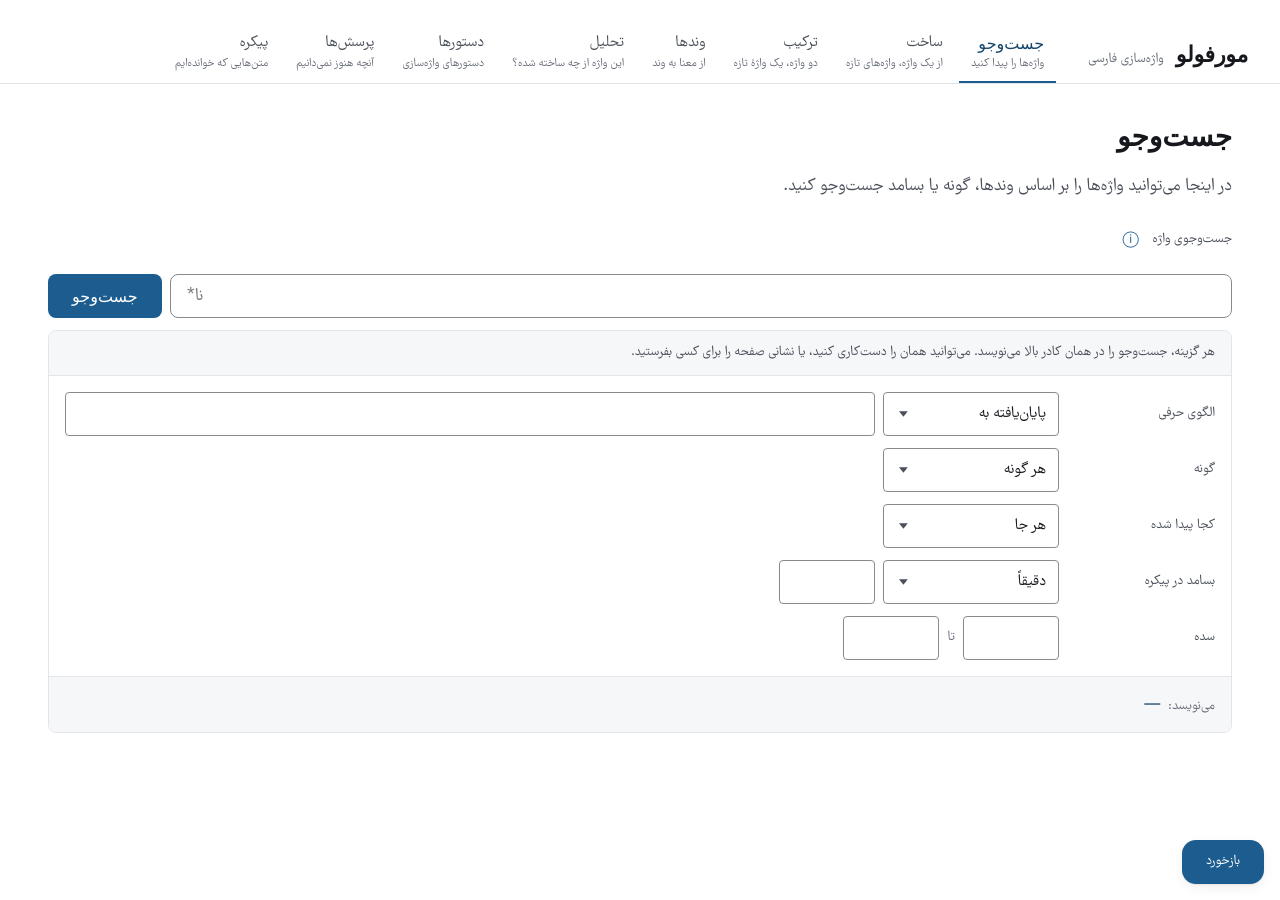
the builder › writes a pattern in the shape that was chosen
Click the dropdown labelled "گونه" at (971, 470), box [883,448,1059,492]
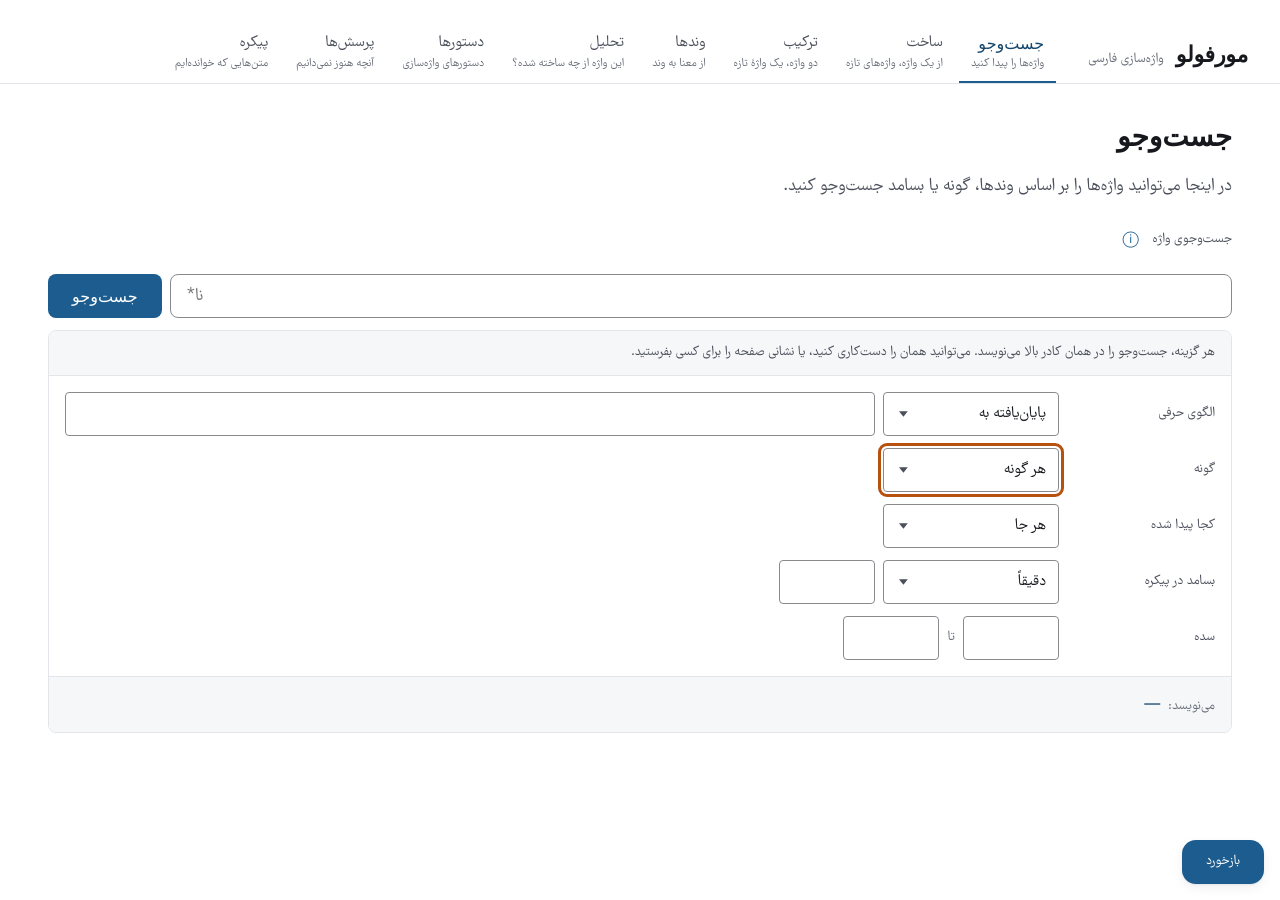
Type "nā" into the field labelled "الگوی حرفی" at (470, 414), box [65,392,875,436]
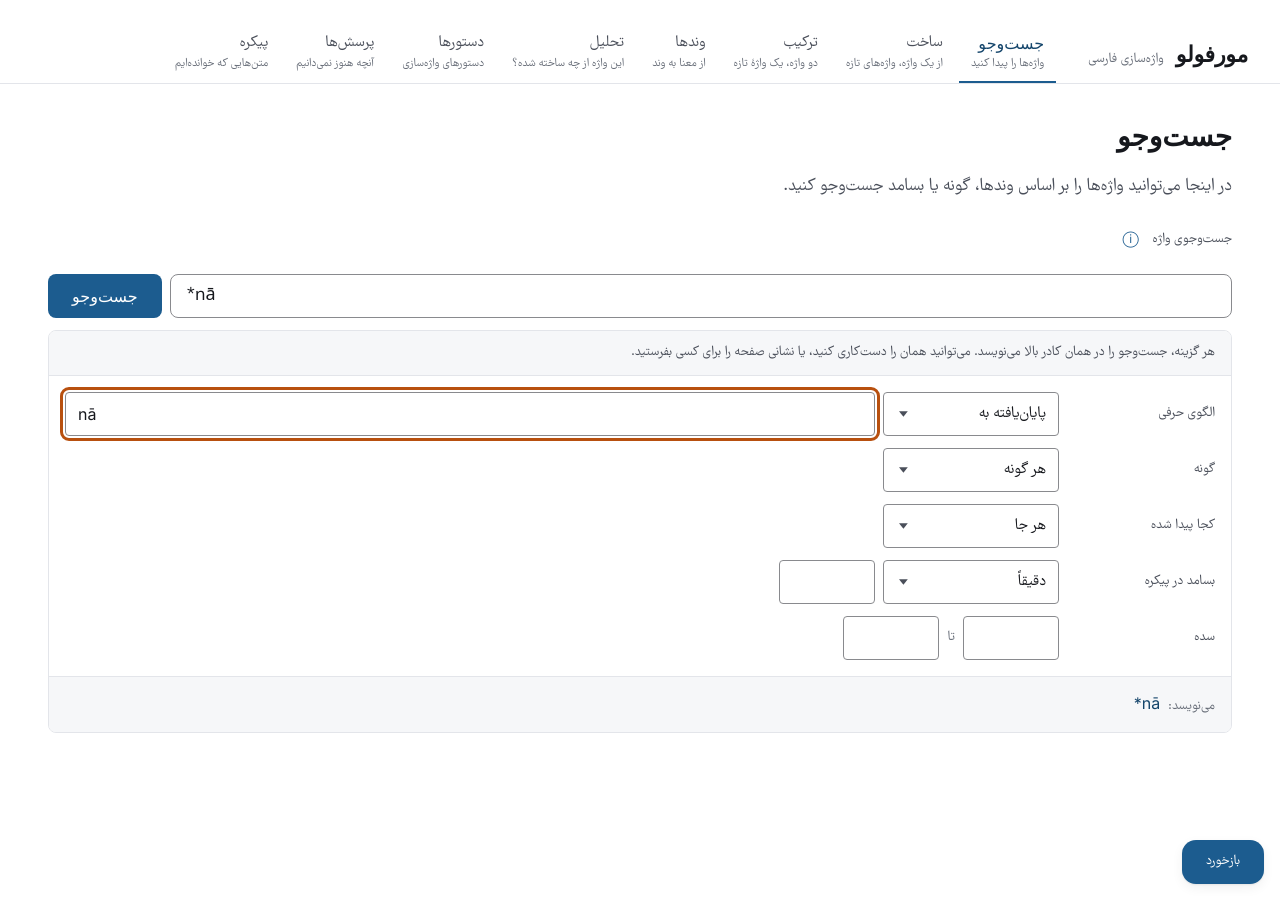
Now the search field labelled "جست‌وجوی واژه" holds "*nā", box [170,274,1232,318]
Select "آغازشده با" in the dropdown named "جور الگو" at (971, 414), box [883,392,1059,436]
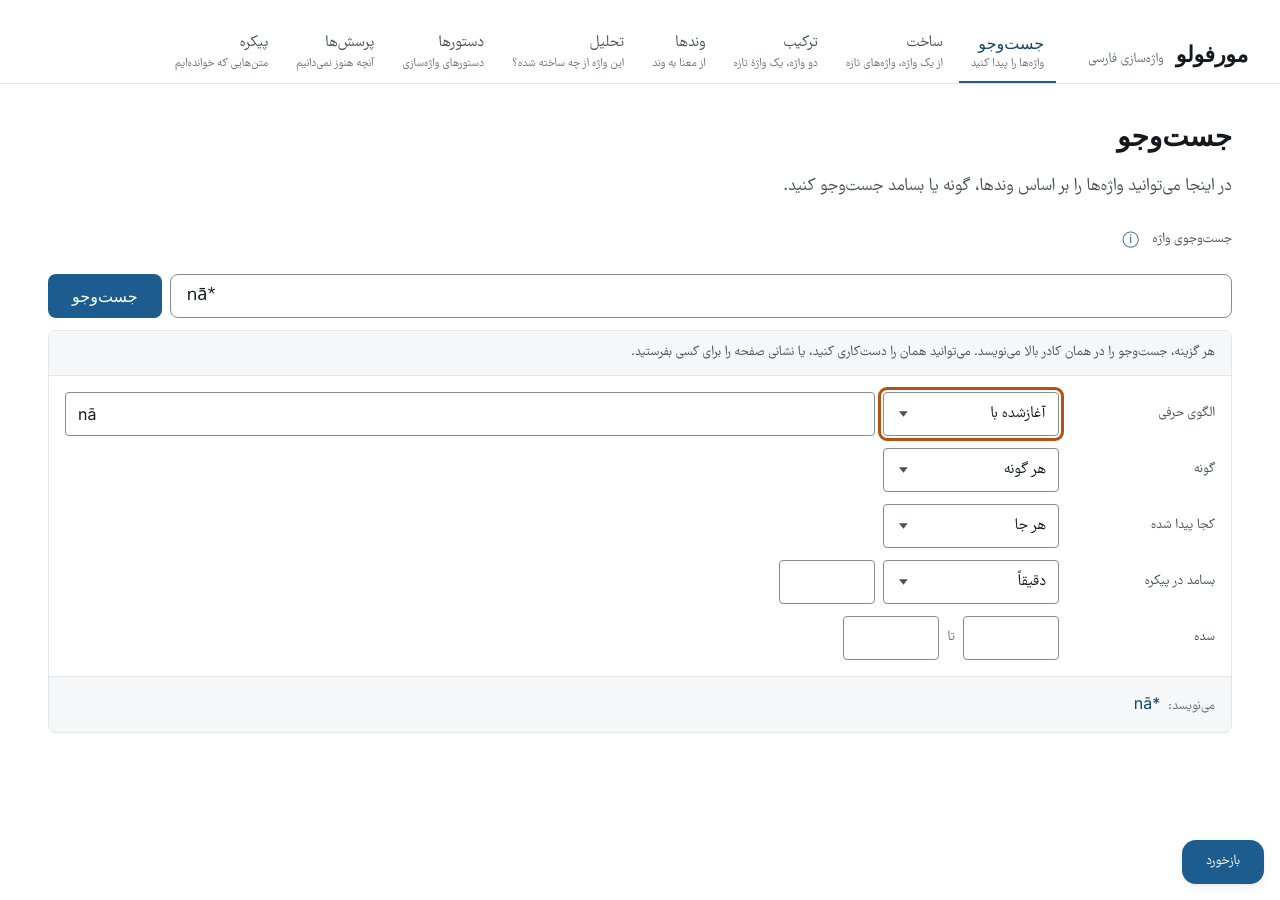
Now the search field labelled "جست‌وجوی واژه" holds "nā*", box [170,274,1232,318]
